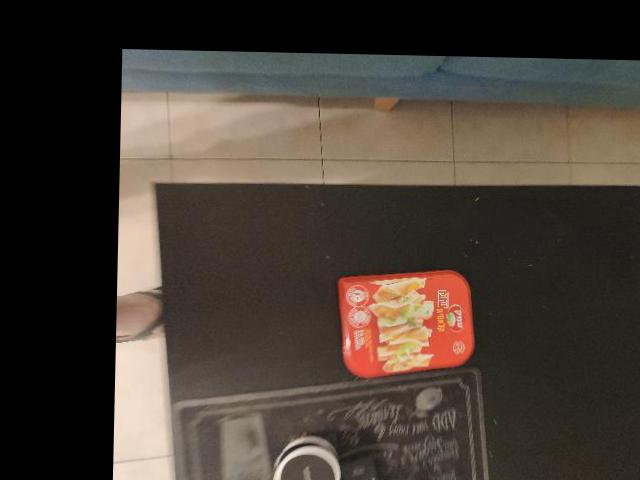cheese: (320, 260, 473, 375)
